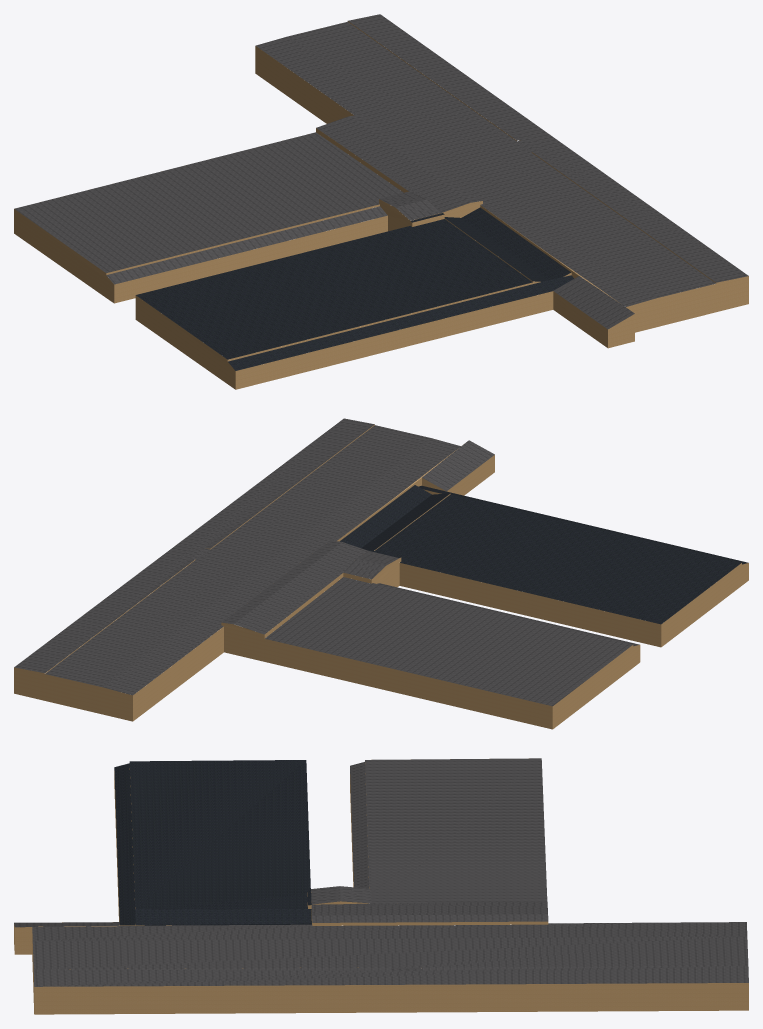
3 views of the same model, one above another, from view 1: azimuth 30°, elevation 25°; view 2: azimuth 150°, elevation 25°; view 3: azimuth 270°, elevation 25° (orthographic). The views are drawn at different scales.
Parts seen in each view (by area): view 1: bldg_6007783218_roof, bldg_6007783220_roof, bldg_6007783218, bldg_6007783220; view 2: bldg_6007783218_roof, bldg_6007783220_roof, bldg_6007783218, bldg_6007783220; view 3: bldg_6007783218_roof, bldg_6007783220_roof, bldg_6007783218.
Boxes of the visible parts, x1=… form: bldg_6007783218_roof: x1=14, y1=14, x2=748, y2=329; bldg_6007783220_roof: x1=136, y1=207, x2=573, y2=370; bldg_6007783218: x1=14, y1=21, x2=748, y2=348; bldg_6007783220: x1=135, y1=214, x2=571, y2=389; bldg_6007783218_roof: x1=14, y1=418, x2=639, y2=706; bldg_6007783220_roof: x1=339, y1=485, x2=748, y2=624; bldg_6007783218: x1=14, y1=424, x2=640, y2=729; bldg_6007783220: x1=374, y1=489, x2=748, y2=647; bldg_6007783218_roof: x1=14, y1=758, x2=748, y2=986; bldg_6007783220_roof: x1=114, y1=760, x2=311, y2=925; bldg_6007783218: x1=14, y1=758, x2=748, y2=1014.
Size of the model in its own units: 187 by 12.07 by 250.
Materials: 3 (3 with a texture image).
